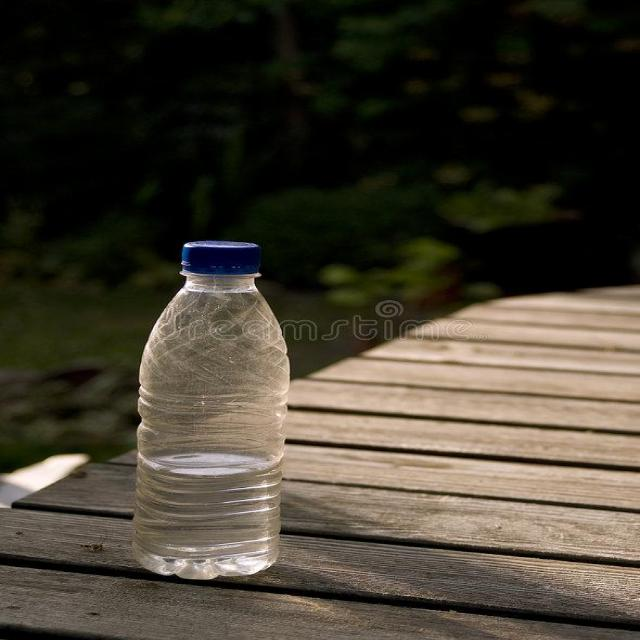bottle: (120, 232, 310, 594)
